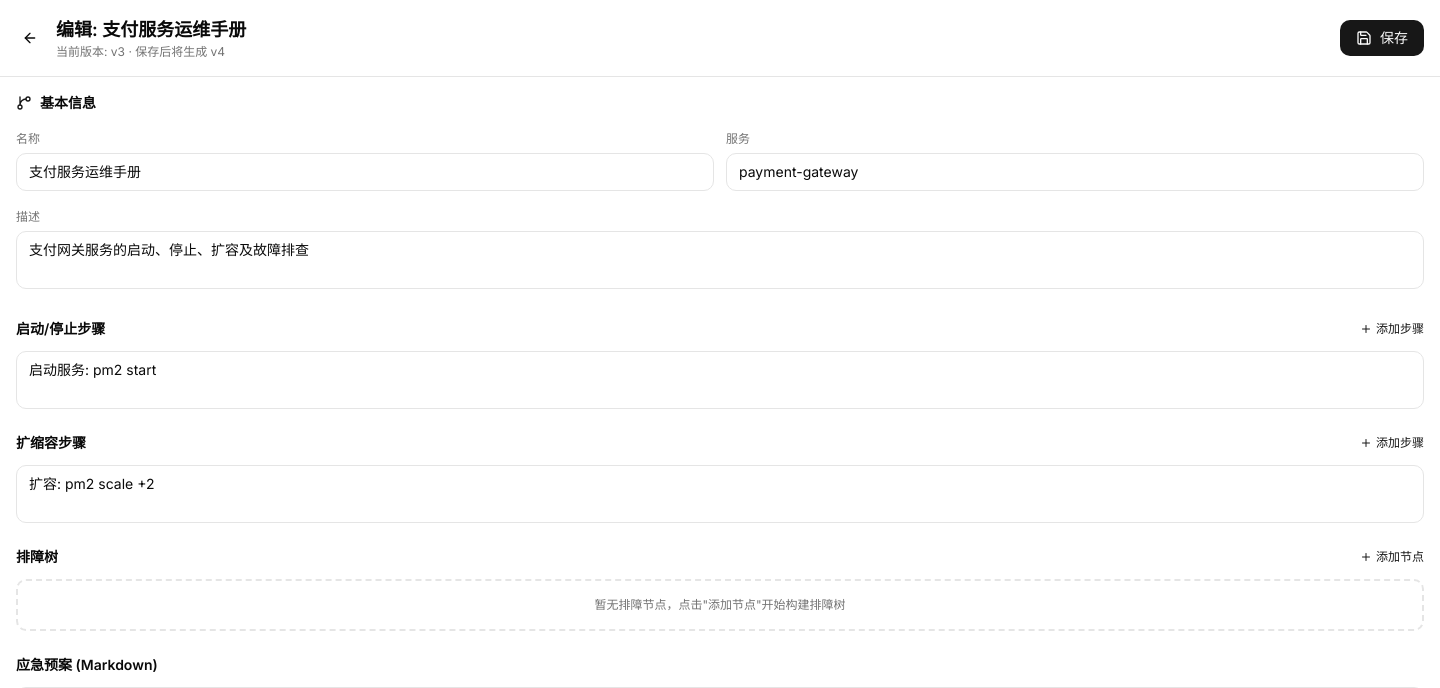
Scenario: RunbookEditor › adds a new troubleshoot node
What coordinates should you click on to do the following:
click the button "添加节点"
I would click on:
 (1392, 557)
Its box is [1360, 549, 1424, 565].
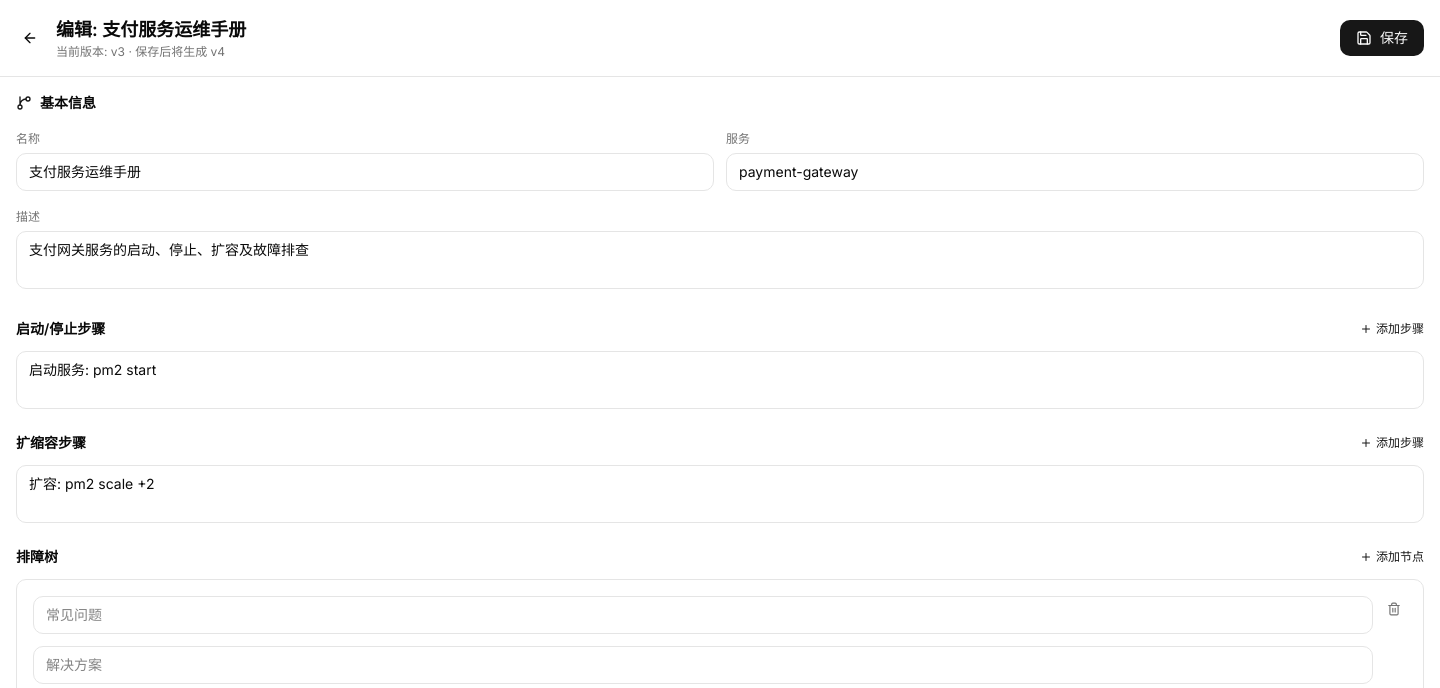
Result: the field with placeholder "常见问题" is shown at [33, 596, 1373, 634]
Result: the field with placeholder "解决方案" is shown at [33, 646, 1373, 684]
